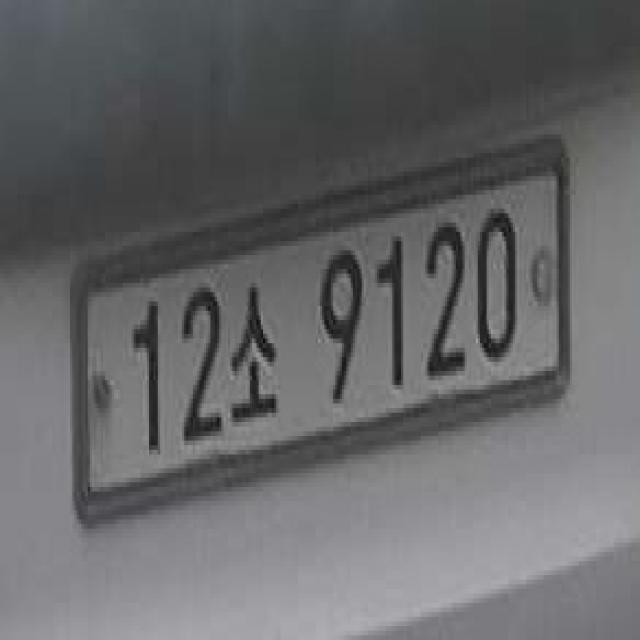0: (471, 200, 522, 376)
1: (127, 288, 171, 473), (373, 222, 412, 398)
2: (175, 274, 230, 450), (421, 213, 469, 394)
9: (316, 241, 368, 408)
license_plate: (64, 120, 574, 552)
so: (228, 274, 278, 441)
